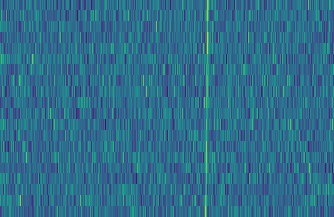signal: (201, 0, 212, 217)
